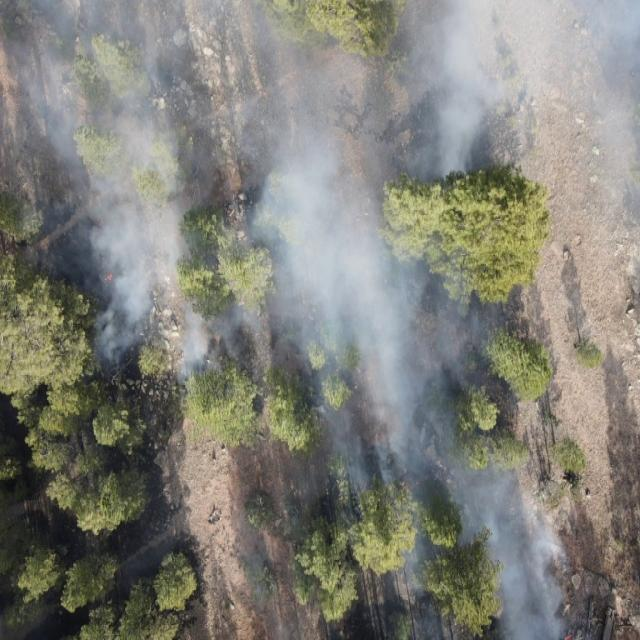fire: (398, 469, 434, 492), (100, 266, 116, 288), (561, 631, 576, 640)
smoke: (0, 0, 496, 392), (308, 392, 574, 640), (496, 0, 640, 170), (590, 170, 640, 316)
